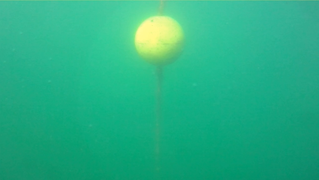buoy: (134, 15, 186, 66)
